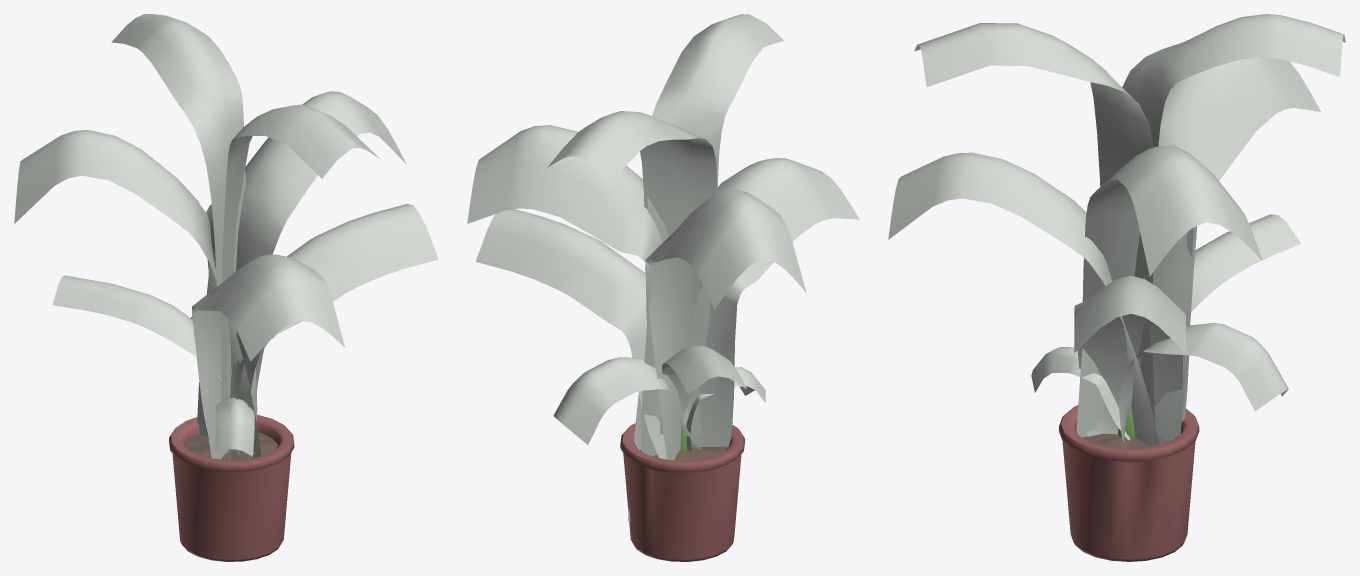
File: plant.glb
The picture shows the model from 3 angles, left to right: view 1: azimuth 30°, elevation 25°; view 2: azimuth 150°, elevation 25°; view 3: azimuth 270°, elevation 25°; orthographic projection. The views are drawn at different scales.
Visible parts, largest first — view 1: Potted_Plant_Dirt_0; view 2: Potted_Plant_Dirt_0; view 3: Potted_Plant_Dirt_0.
Boxes of the visible parts, x1,y1,x2,y2 form: Potted_Plant_Dirt_0: (14,14,438,561); Potted_Plant_Dirt_0: (467,14,859,561); Potted_Plant_Dirt_0: (888,14,1345,561).
Bounding box in the file's own units: 7.89 × 10.01 × 7.89.
